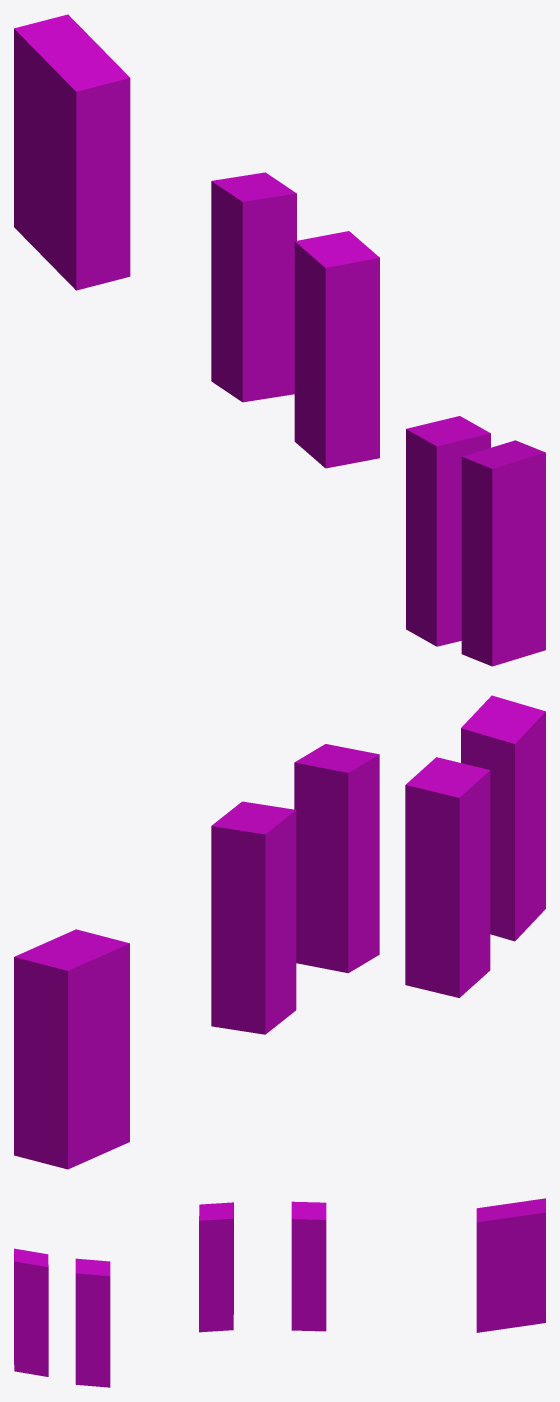
Rendered from M09_Z01_TeethBlock06.glb.
The picture shows the model from 3 angles, top to bottom: view 1: azimuth 30°, elevation 25°; view 2: azimuth 150°, elevation 25°; view 3: azimuth 270°, elevation 25°; orthographic projection. The views are drawn at different scales.
Visible parts, largest first — view 1: M09_Z01_TEETHBLOCK06; view 2: M09_Z01_TEETHBLOCK06; view 3: M09_Z01_TEETHBLOCK06.
Boxes of the visible parts, left/top/right/bottom form: M09_Z01_TEETHBLOCK06: left=14, top=14, right=545, bottom=666; M09_Z01_TEETHBLOCK06: left=14, top=695, right=545, bottom=1169; M09_Z01_TEETHBLOCK06: left=14, top=1198, right=545, bottom=1387.
Bounding box in the file's own units: 2.27 × 12.52 × 34.47.
